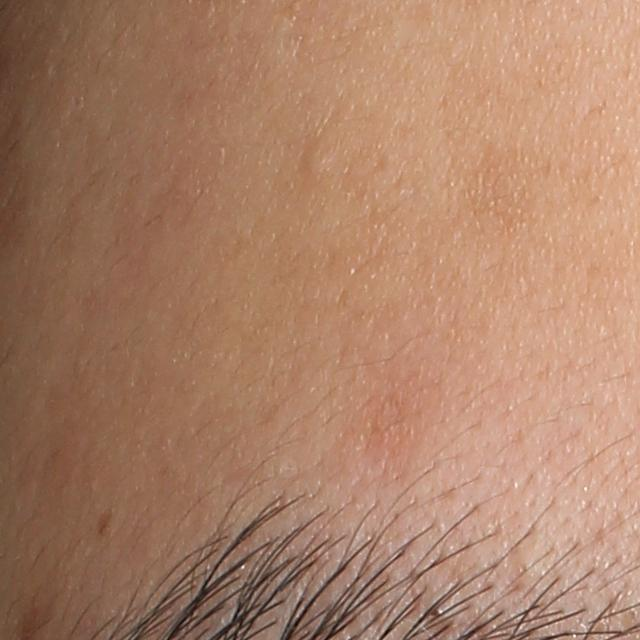comedo: (299, 141, 335, 182)
